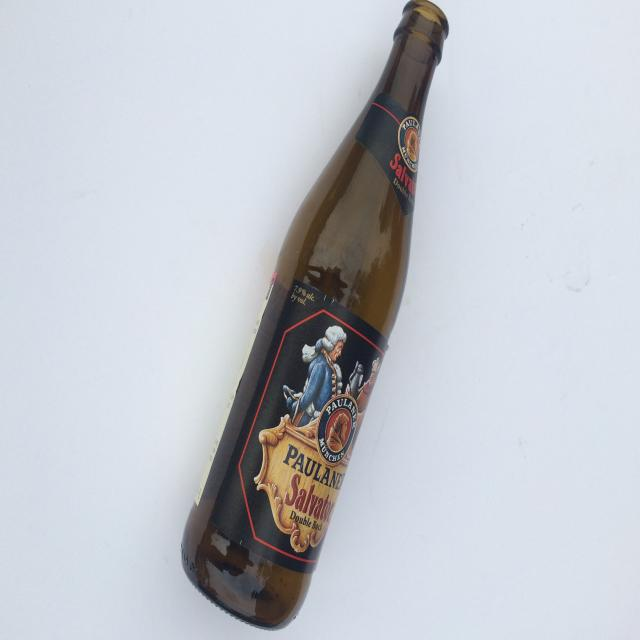glass: (180, 0, 450, 631)
